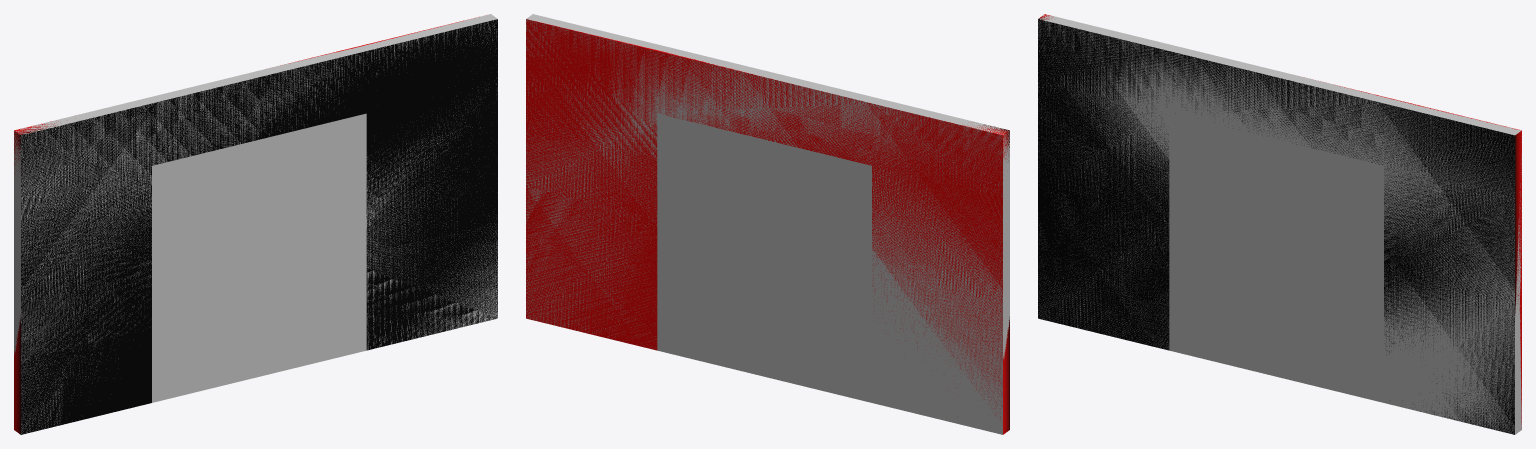
Rendered from SM_His_Sal_Wall_Door_Modular_01.fbx.
3 renders of one model, left to right at view 1: azimuth 30°, elevation 25°; view 2: azimuth 150°, elevation 25°; view 3: azimuth 330°, elevation 25°, orthographic.
Visible parts, largest first — view 1: SM_His_Sal_Wall_Door_Modular_01, SM_His_Sal_Wall_Door_Modular_01_ConvexHulls; view 2: SM_His_Sal_Wall_Door_Modular_01_ConvexHulls, SM_His_Sal_Wall_Door_Modular_01; view 3: SM_His_Sal_Wall_Door_Modular_01_ConvexHulls, SM_His_Sal_Wall_Door_Modular_01.
Boxes of the visible parts, x1,y1,x2,y2 form: SM_His_Sal_Wall_Door_Modular_01: (14,15,497,434); SM_His_Sal_Wall_Door_Modular_01_ConvexHulls: (14,14,497,433); SM_His_Sal_Wall_Door_Modular_01_ConvexHulls: (526,14,1009,434); SM_His_Sal_Wall_Door_Modular_01: (526,19,1009,434); SM_His_Sal_Wall_Door_Modular_01_ConvexHulls: (1038,14,1521,434); SM_His_Sal_Wall_Door_Modular_01: (1038,14,1521,434).
Size of the model in its own units: 400 by 10.02 by 240.
